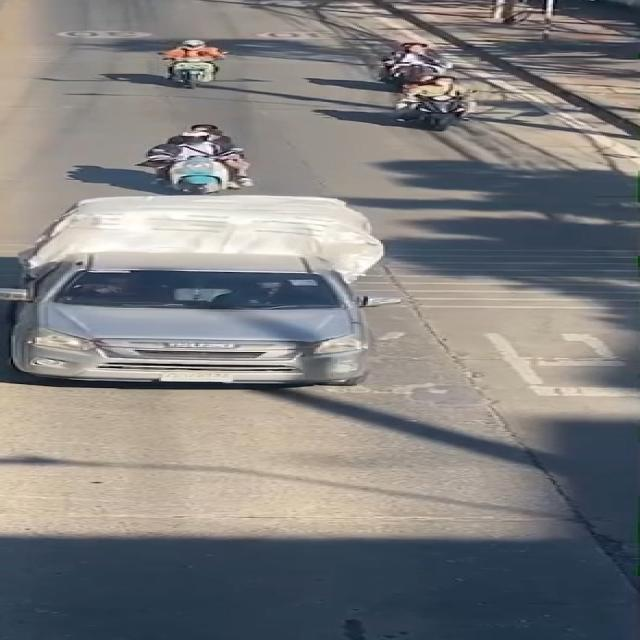car: (0, 238, 438, 412)
